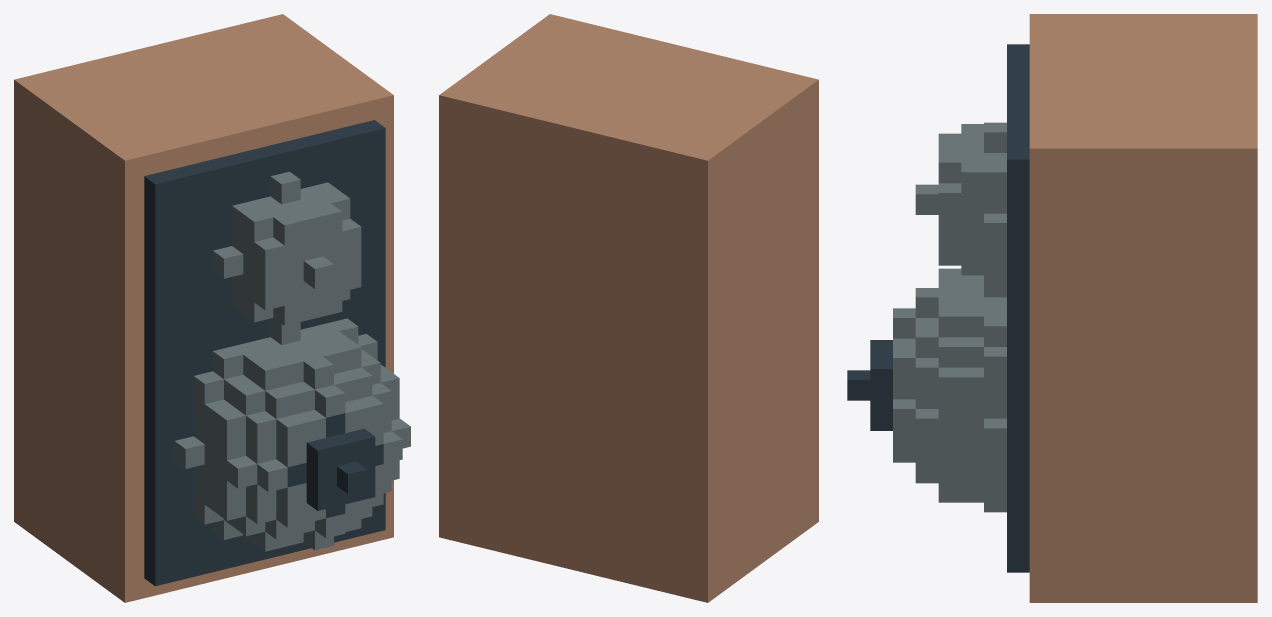
The model's file is music-05.glb.
3 renders of one model, left to right at view 1: azimuth 30°, elevation 25°; view 2: azimuth 150°, elevation 25°; view 3: azimuth 270°, elevation 25°, orthographic. The views are drawn at different scales.
Parts seen in each view (by area): view 1: Monitor speaker; view 2: Monitor speaker; view 3: Monitor speaker.
Part boxes in pixels (box(x1,y1,x2,y2)): Monitor speaker: box(14, 14, 410, 602); Monitor speaker: box(439, 14, 818, 602); Monitor speaker: box(847, 14, 1257, 602).
Size of the model in its own units: 1.12 by 1.76 by 1.44.
